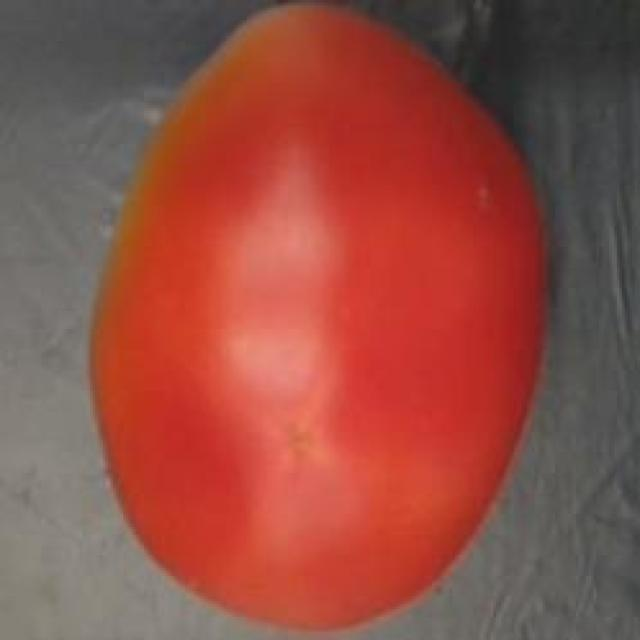ripe tomato: (72, 0, 563, 640)
